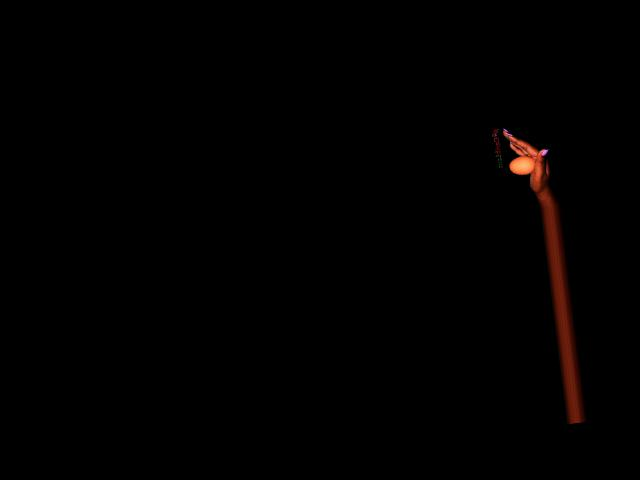egg: (508, 154, 536, 177)
